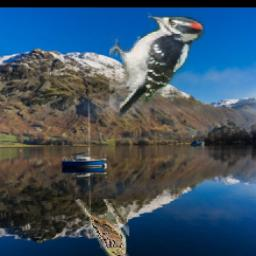Sparrow: (76, 200, 130, 256)
Woodpecker: (109, 12, 205, 117)
